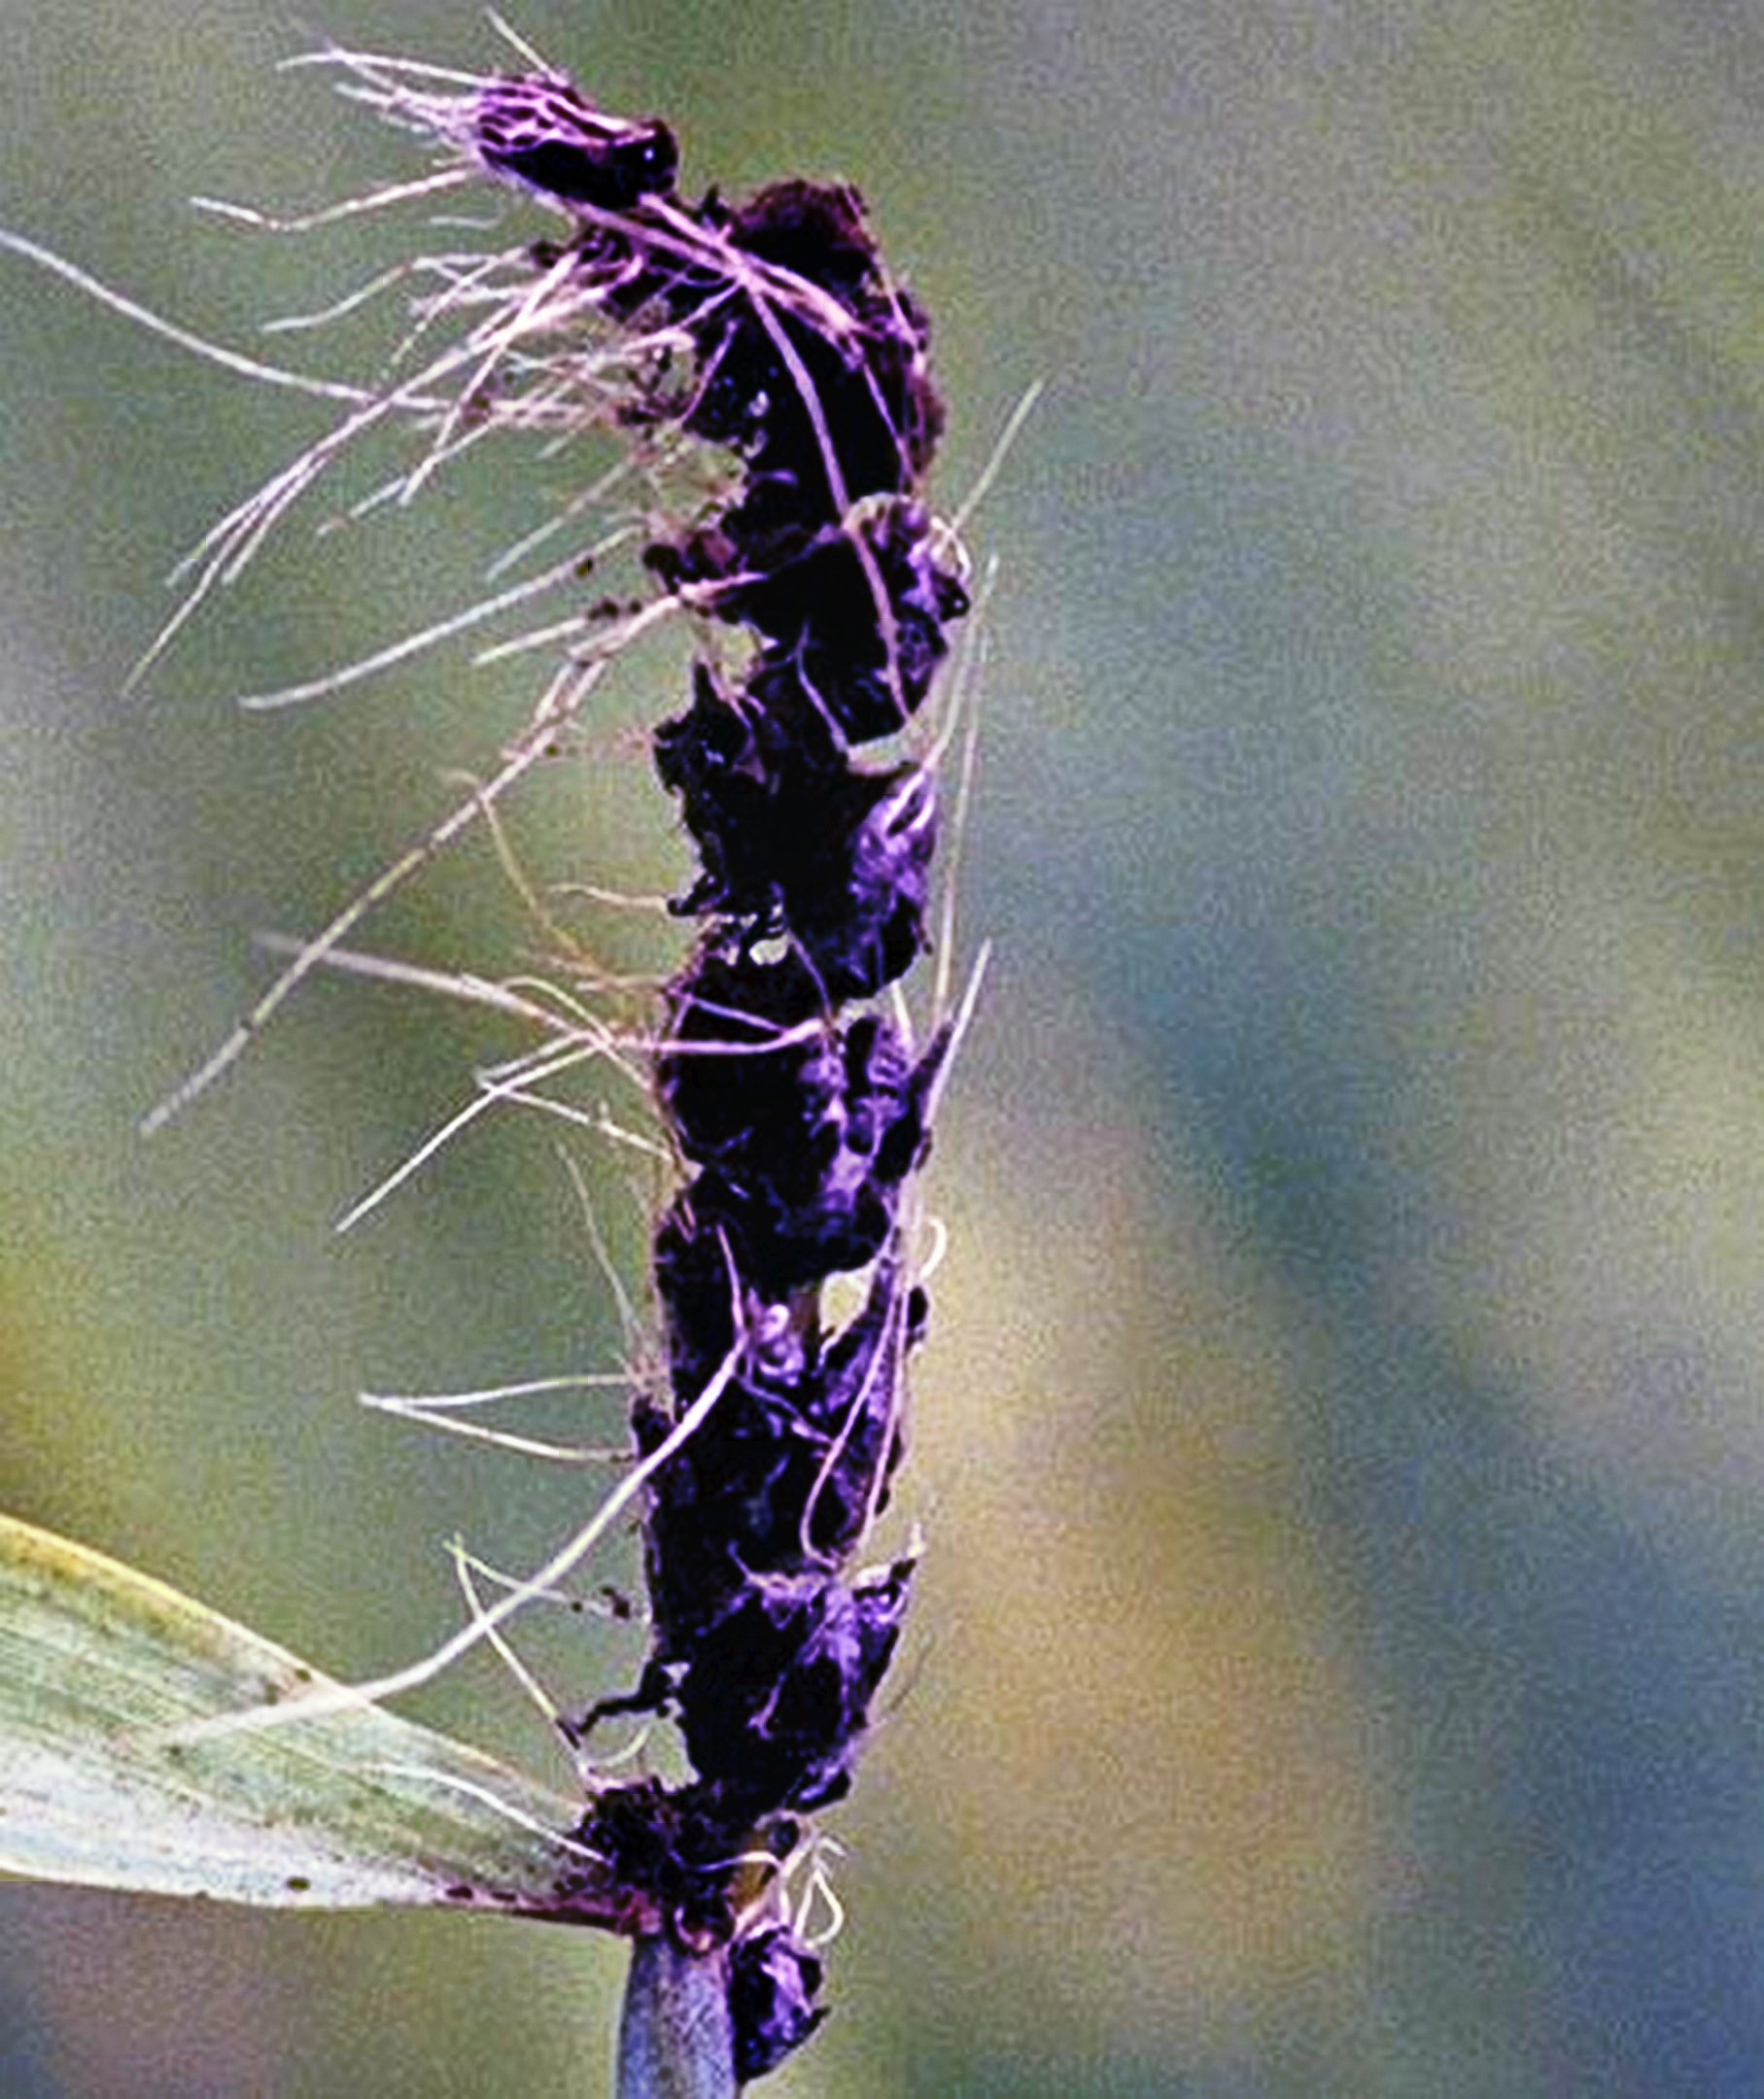Wheat Loose Smut: (453, 66, 938, 1919)
